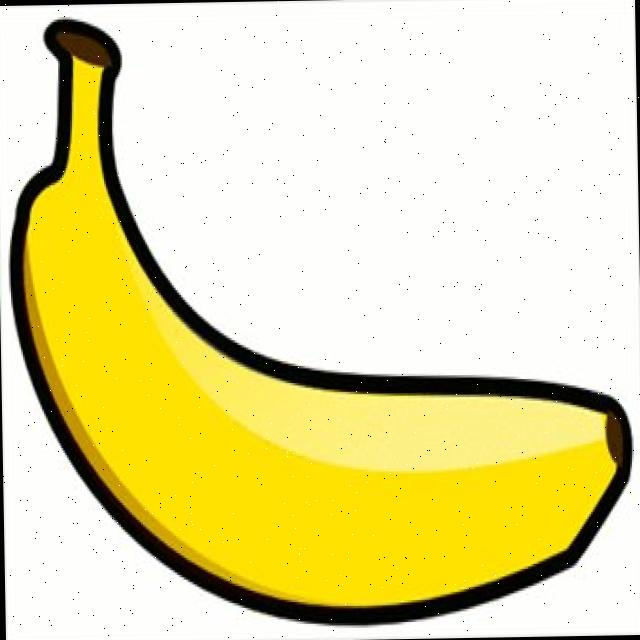Pisang: (6, 6, 636, 628)
